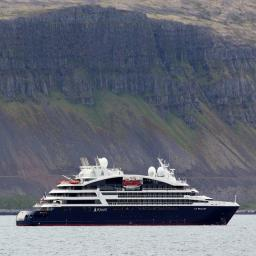cruises: (15, 155, 243, 228)
